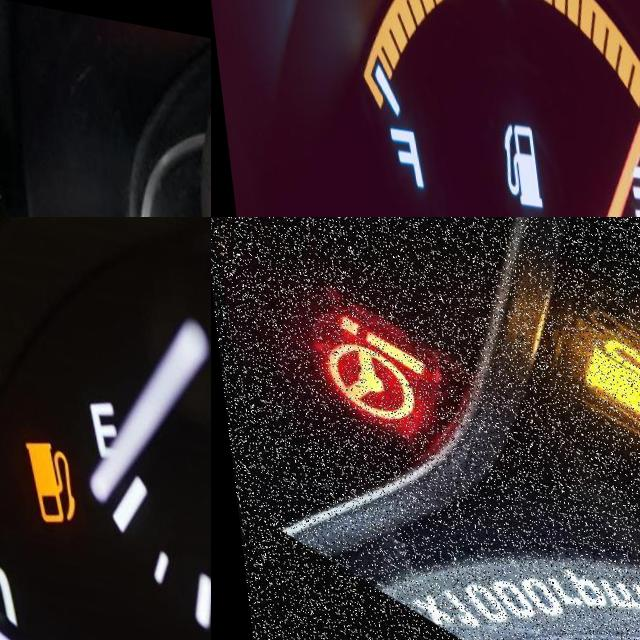Electronic Power Steering: (278, 281, 450, 461)
